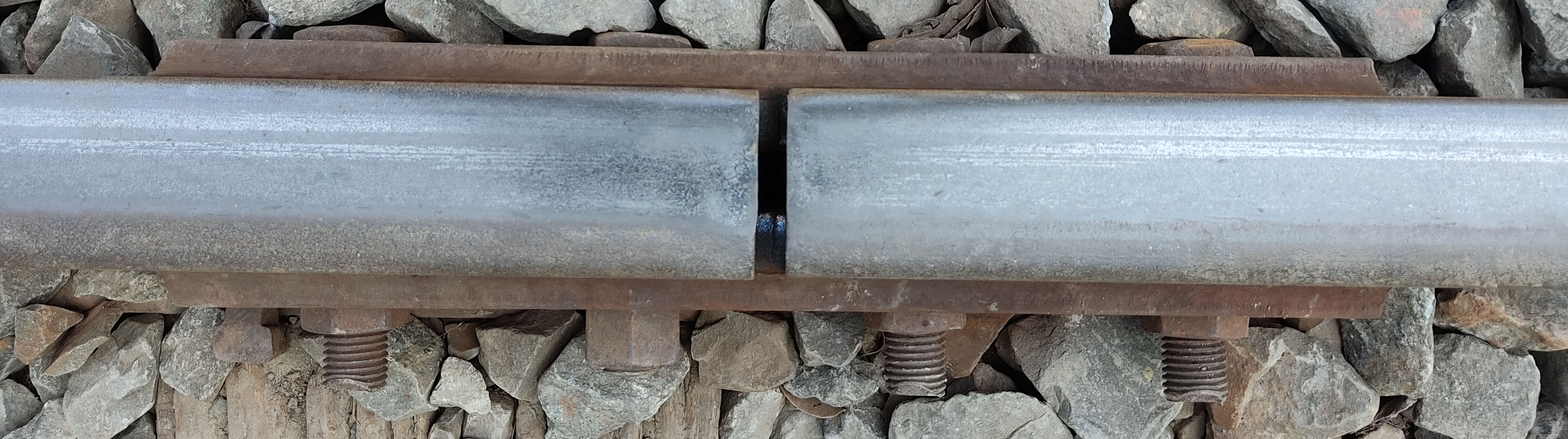duan lie: (742, 74, 808, 321)
